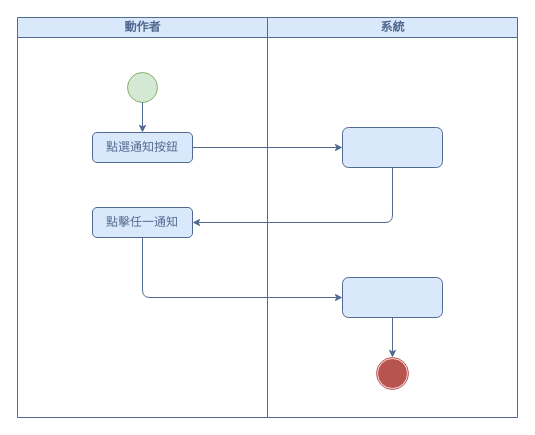
Image size: 535x435. Some labels were removed from this diagram. The shapes that lost their labels are listed below. From the top down, each one's centre as x and y in pixels, then its label:
point (392, 147): 顯示所有通知 的概要
point (392, 297): 顯示通知 的詳細內容
